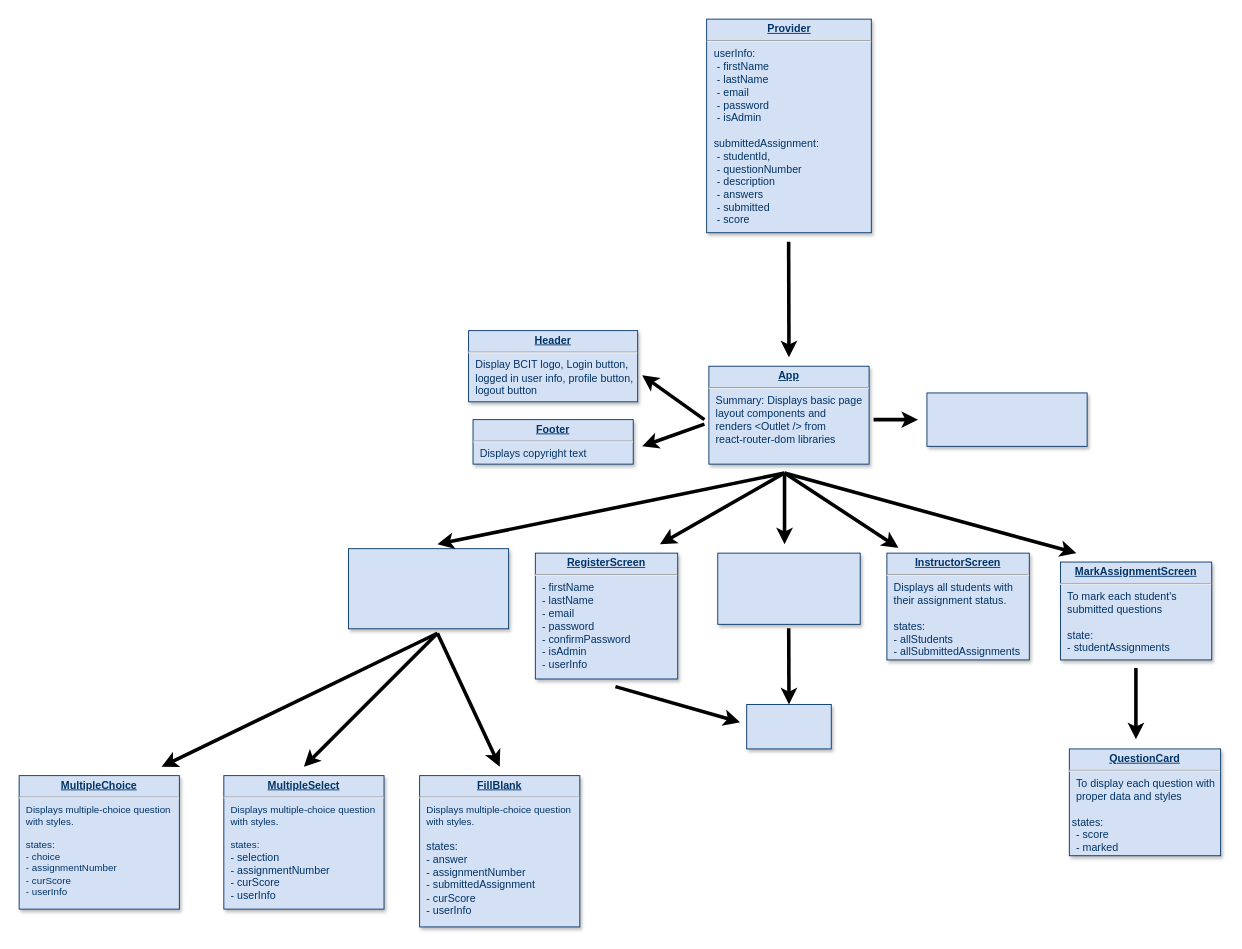
This 1242x949 diagram has some shape labels left out. The centre of each missing label's shape, as x and y in pixels:
Loading - Spinner: point 789,727
LoginScreen - email - password - userInfo: point 789,590
StudentScreen Displays all three assignments state: - userInfo: point 429,589
ToastContainer Pops out messages on screen: point 1007,420
